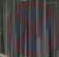No Stopping: (7, 2, 52, 48)
